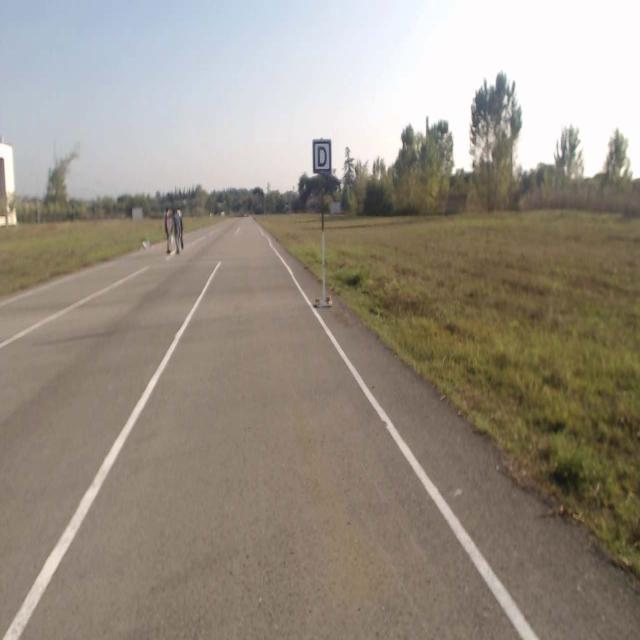durak: (311, 141, 331, 175)
